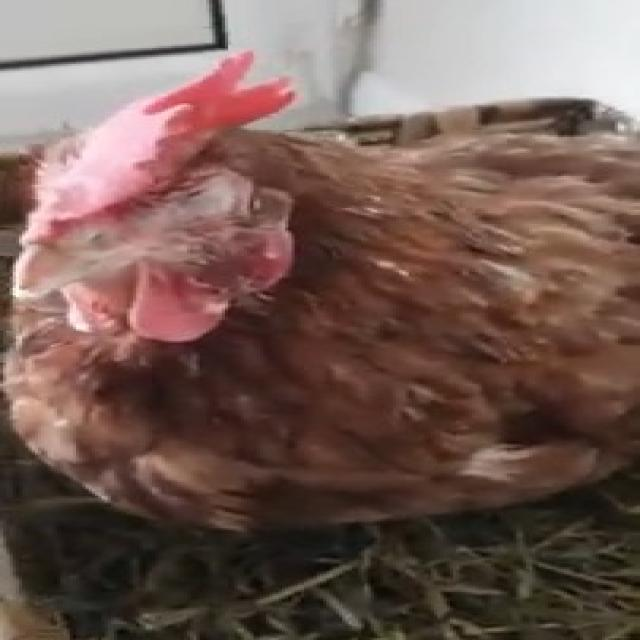bird flu: (0, 50, 640, 548)
